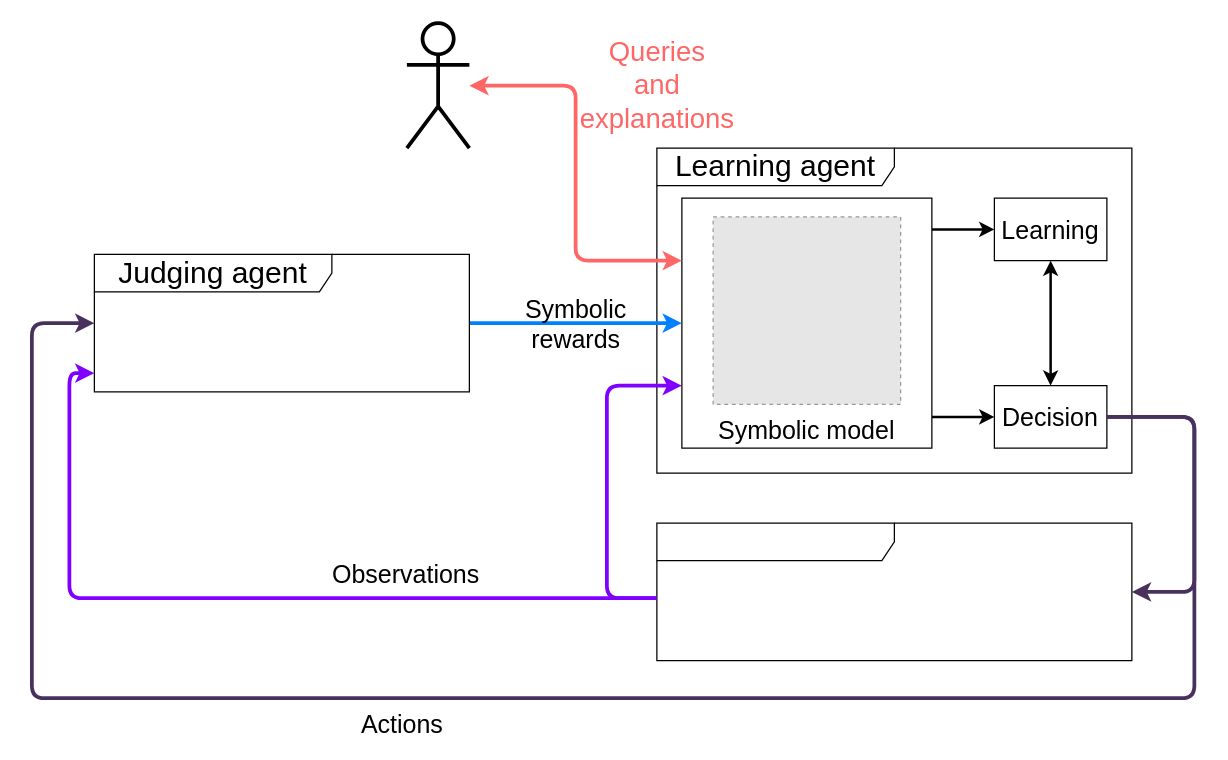
The diagram is 1228 pixels wide and 760 high, and some of its shapes have lost their labels. Grey dashed boxes stand in for pictures. The centre of each missing label's shape, as x and y in pixels:
"Environment" belongs at pixel 894 591.
"Human user" belongs at pixel 437 85.
